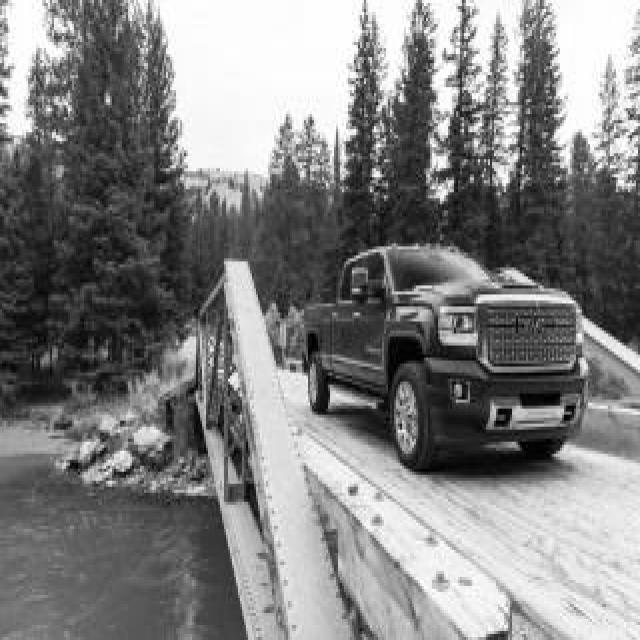Car: (306, 246, 586, 469)
